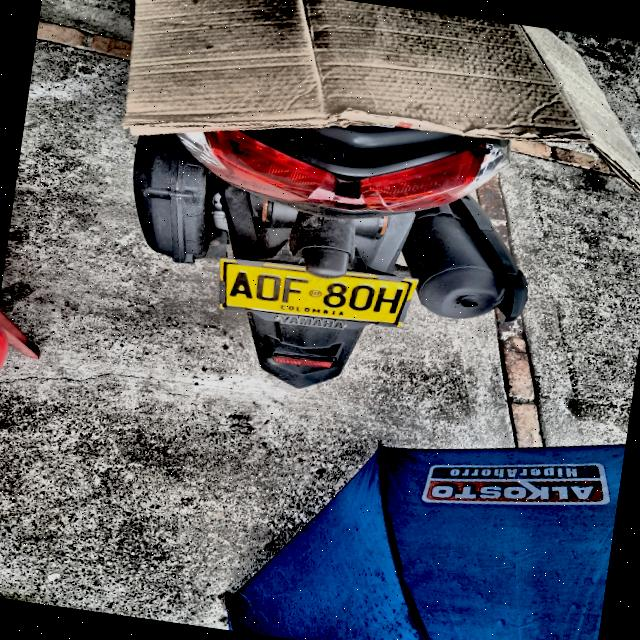plate: (222, 260, 415, 326)
